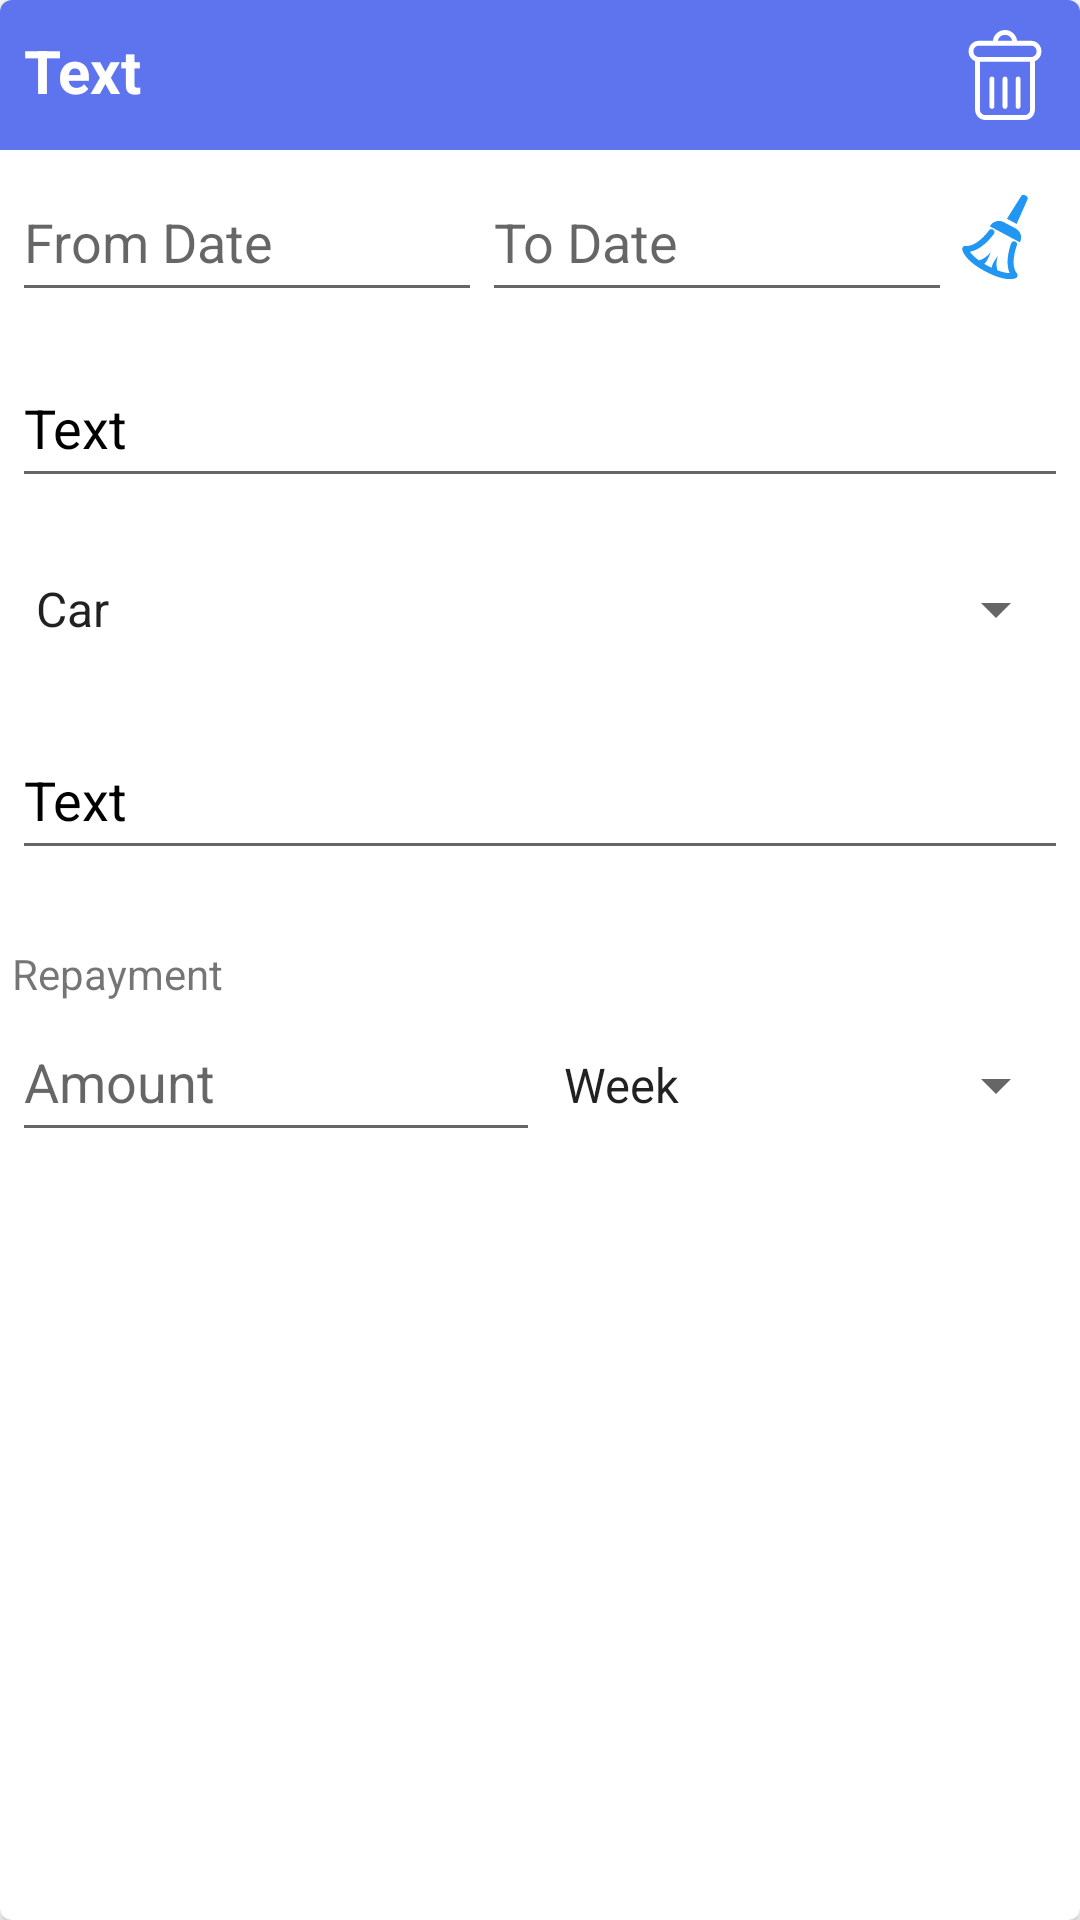

Named icons in this screenshot (1080*1920) and their centers, (x,y):
clear: (995,237)
Delete Item: (1024,60)
